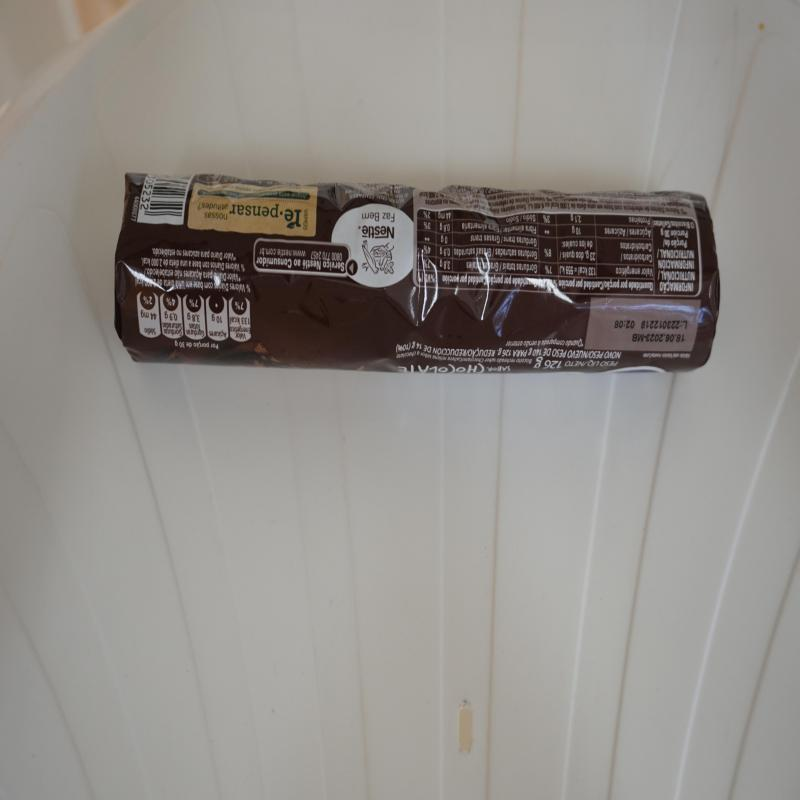Cookies: (112, 171, 722, 378)
